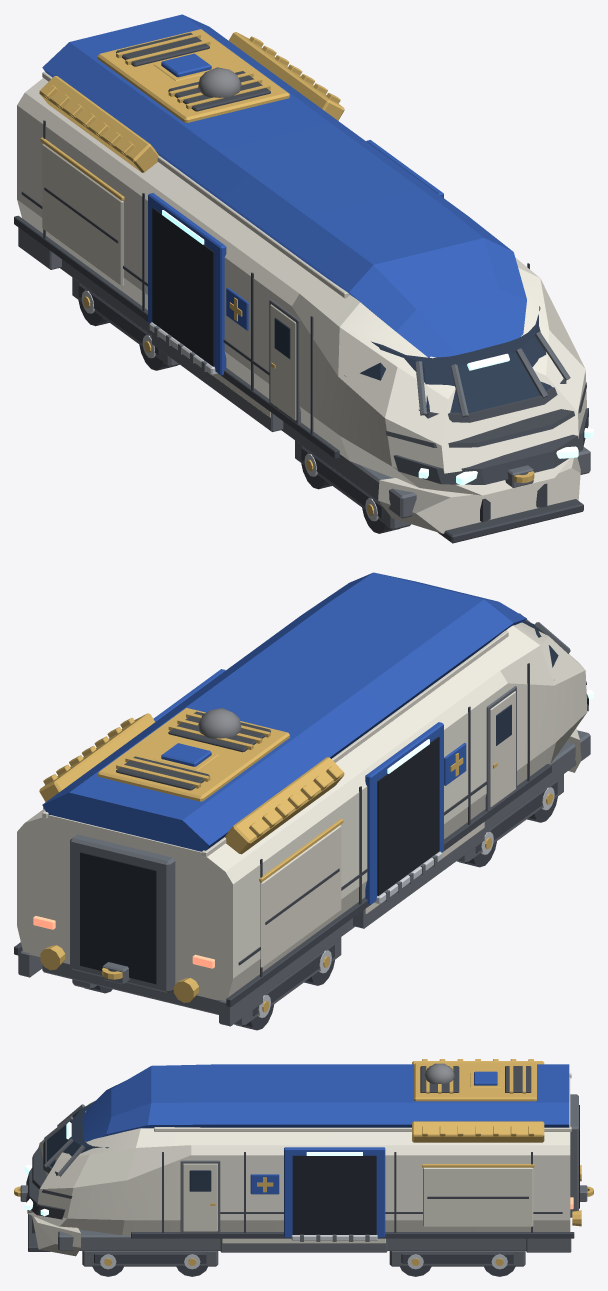
Rendered from knights_train_cargo.glb.
The picture shows the model from 3 angles, top to bottom: view 1: azimuth 30°, elevation 25°; view 2: azimuth 150°, elevation 25°; view 3: azimuth 270°, elevation 25°; orthographic projection. The views are drawn at different scales.
Visible parts, largest first — view 1: cargo_body, sled_cargo_front, sled_cargo_rear, stack_smoke_1, cargo_car_indicator; view 2: cargo_body, sled_cargo_rear, sled_cargo_front, stack_smoke_1, cargo_car_indicator; view 3: cargo_body, sled_cargo_front, sled_cargo_rear, cargo_car_indicator, stack_smoke_1.
Boxes of the visible parts, bbox=[...] form: cargo_body: bbox=[14, 14, 593, 543]; sled_cargo_front: bbox=[295, 440, 411, 533]; sled_cargo_rear: bbox=[72, 277, 179, 370]; stack_smoke_1: bbox=[198, 67, 241, 97]; cargo_car_indicator: bbox=[154, 53, 215, 80]; cargo_body: bbox=[14, 572, 593, 1026]; sled_cargo_rear: bbox=[72, 937, 341, 1030]; sled_cargo_front: bbox=[457, 774, 563, 867]; stack_smoke_1: bbox=[198, 708, 241, 738]; cargo_car_indicator: bbox=[154, 743, 218, 770]; cargo_body: bbox=[24, 1059, 581, 1256]; sled_cargo_front: bbox=[82, 1251, 218, 1276]; sled_cargo_rear: bbox=[389, 1251, 525, 1276]; cargo_car_indicator: bbox=[470, 1071, 501, 1087]; stack_smoke_1: bbox=[424, 1063, 454, 1084].
Size of the model in its own units: 3.62 by 3.95 by 11.32.
